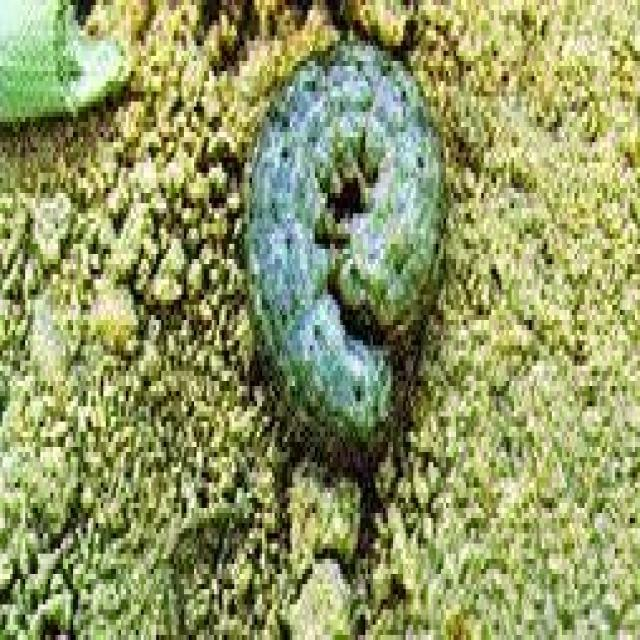black cutworm: (242, 37, 446, 453)
